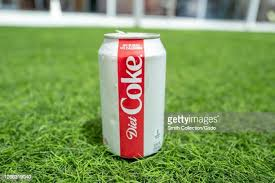can: (95, 25, 175, 167)
